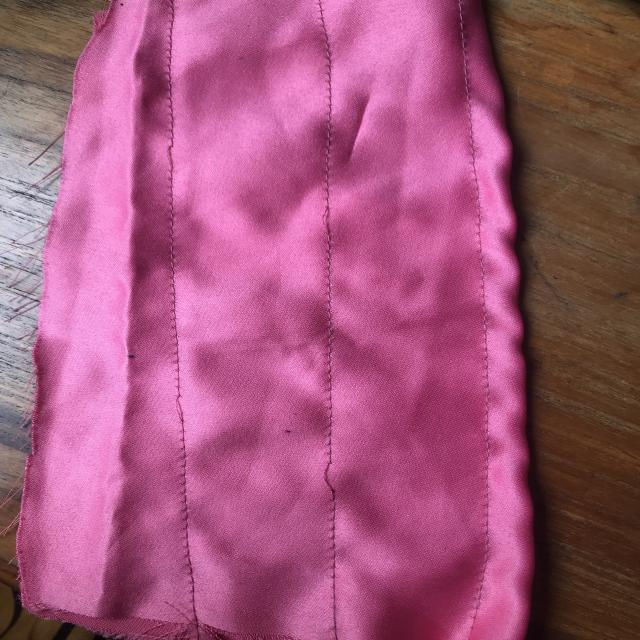skip: (306, 196, 348, 242), (312, 450, 344, 506), (156, 139, 198, 181), (165, 388, 202, 427)
